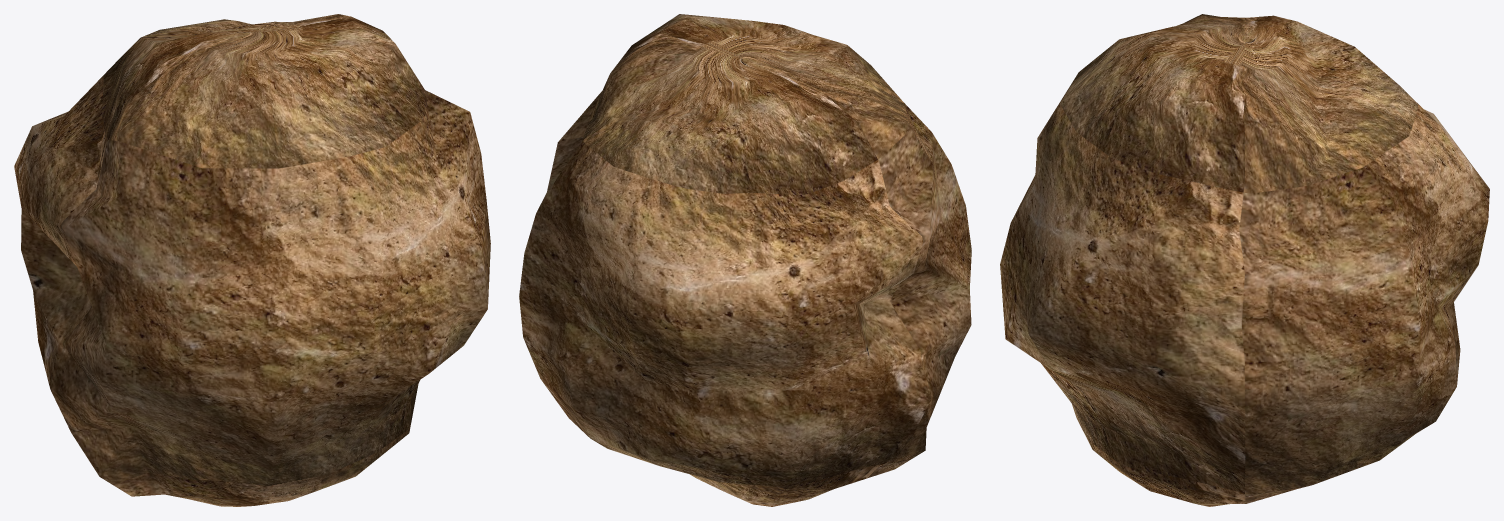
File: Bullet.fbx
The picture shows the model from 3 angles, left to right: view 1: azimuth 30°, elevation 25°; view 2: azimuth 150°, elevation 25°; view 3: azimuth 270°, elevation 25°; orthographic projection. The views are drawn at different scales.
Visible parts, largest first — view 1: pSphere1; view 2: pSphere1; view 3: pSphere1.
Part boxes in pixels (x1,y1,x2,y2): pSphere1: (14,14,490,506); pSphere1: (519,14,971,506); pSphere1: (1000,14,1489,506).
Bounding box in the file's own units: 9.52 × 10.23 × 9.94.
Materials: 1 (1 with a texture image).
